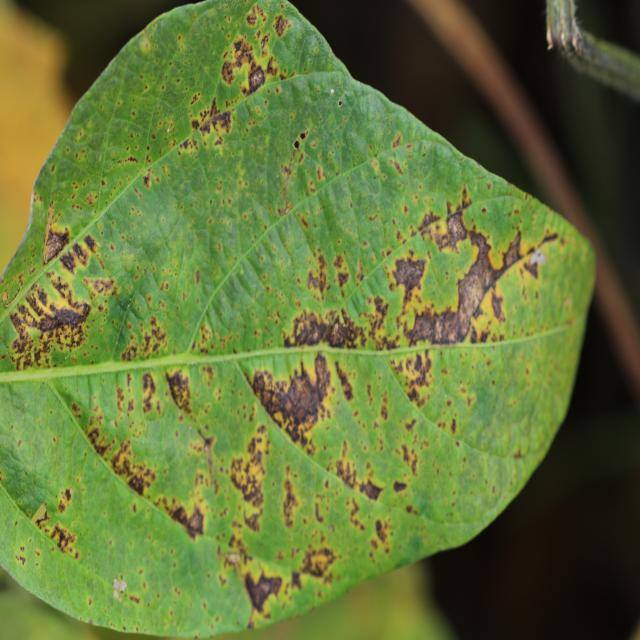Bacterial_Blight: (249, 355, 334, 444), (427, 241, 496, 341), (228, 427, 270, 513), (106, 435, 159, 498), (390, 352, 436, 409), (280, 128, 308, 214), (186, 96, 233, 145), (221, 35, 262, 91), (389, 251, 433, 303), (242, 567, 284, 616), (328, 311, 369, 348), (44, 302, 88, 333), (165, 369, 193, 416), (300, 544, 336, 579), (45, 520, 79, 557), (84, 418, 116, 457), (525, 227, 560, 260), (500, 228, 525, 269), (192, 320, 222, 354), (446, 209, 469, 248), (141, 371, 159, 413), (148, 314, 167, 351), (399, 441, 419, 476), (82, 277, 114, 298), (186, 505, 205, 536), (359, 477, 383, 501), (490, 289, 505, 324), (246, 3, 266, 29), (59, 248, 79, 273), (374, 518, 390, 549), (57, 486, 74, 513), (273, 13, 291, 37), (30, 502, 48, 526), (112, 577, 127, 601), (198, 431, 214, 451), (336, 269, 350, 289), (389, 158, 404, 176), (83, 234, 97, 252), (85, 191, 98, 206), (392, 132, 402, 148), (512, 447, 525, 459), (142, 171, 151, 187), (122, 155, 138, 164), (234, 39, 244, 53), (16, 554, 27, 566), (190, 92, 200, 105), (261, 34, 269, 50), (129, 594, 141, 604), (1, 291, 9, 304), (195, 269, 201, 285), (294, 139, 300, 149), (300, 131, 306, 140), (35, 550, 41, 557), (100, 179, 105, 187), (88, 598, 92, 606), (20, 546, 25, 552), (18, 439, 22, 446), (338, 100, 342, 107)
Soybean: (0, 0, 594, 638)
